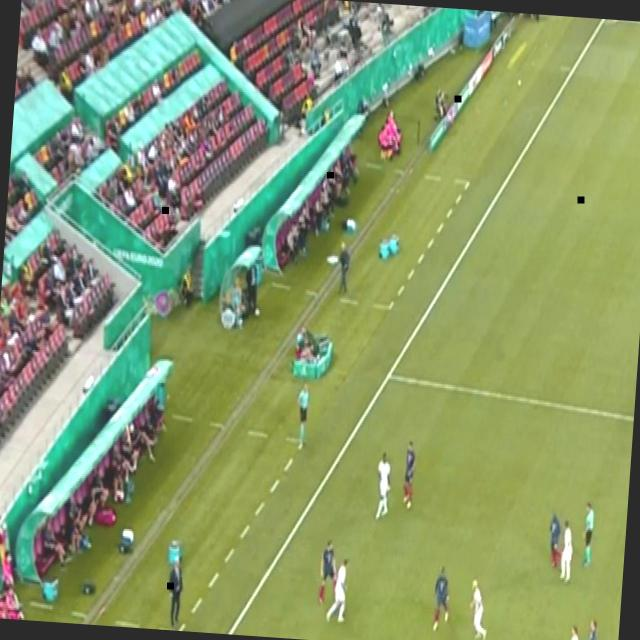player-white: (325, 550, 353, 632), (462, 574, 493, 640), (428, 561, 454, 637), (371, 449, 395, 525), (316, 533, 340, 607), (574, 499, 598, 571), (543, 506, 567, 574), (290, 379, 312, 453), (400, 435, 418, 510), (557, 519, 576, 585), (579, 616, 605, 640), (565, 621, 583, 640)
